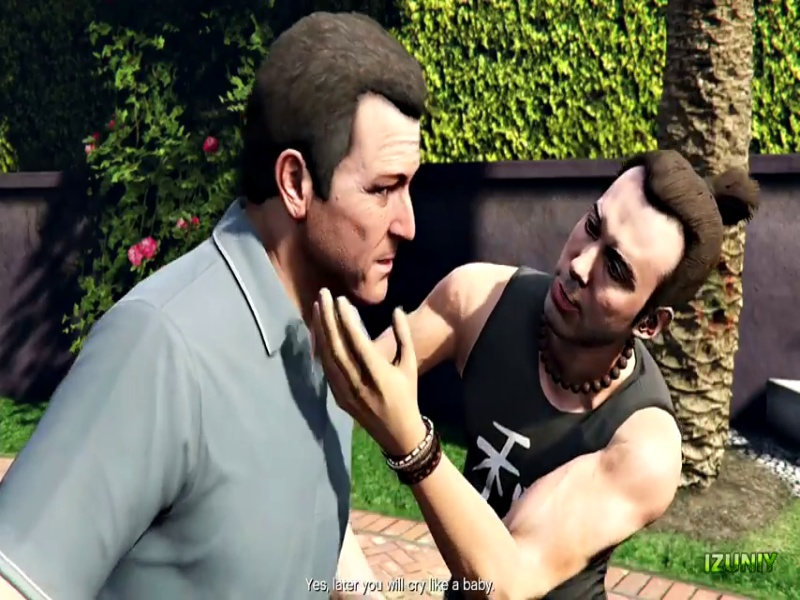human: (11, 2, 740, 595)
